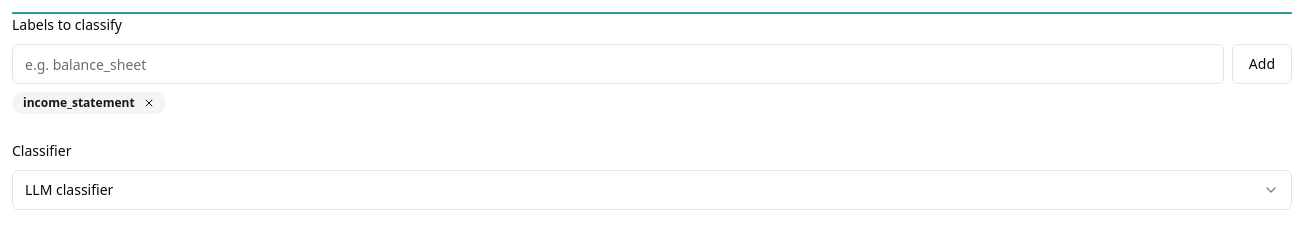
Test case: ClassificationConfig › removes a label when its remove button is clicked
Check: the text "income_statement" is shown, box [12,92,166,114]
Click the button named "Remove income_statement": (149, 103) [143,97,155,109]
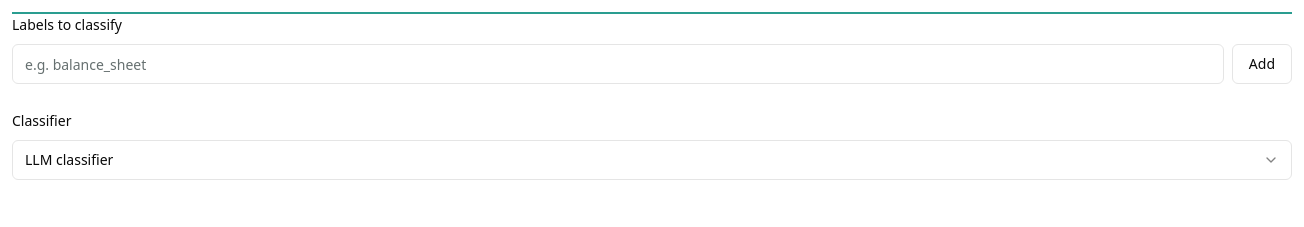
Check: the text "income_statement" is gone
